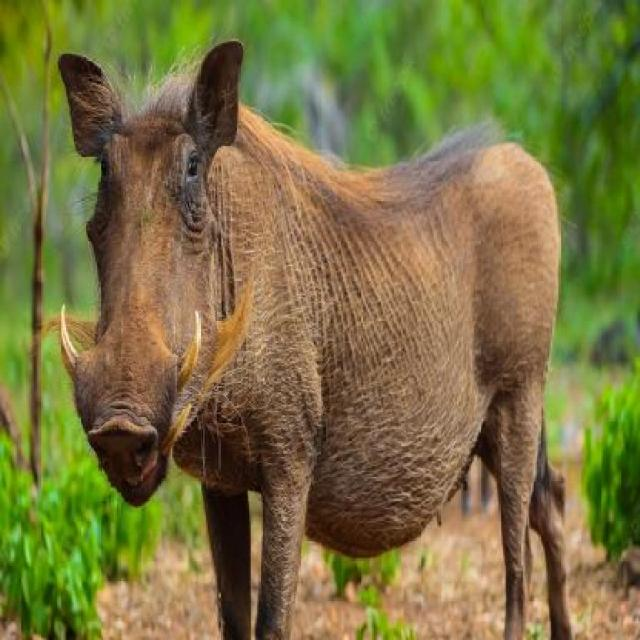wildboar: (24, 34, 578, 640)
